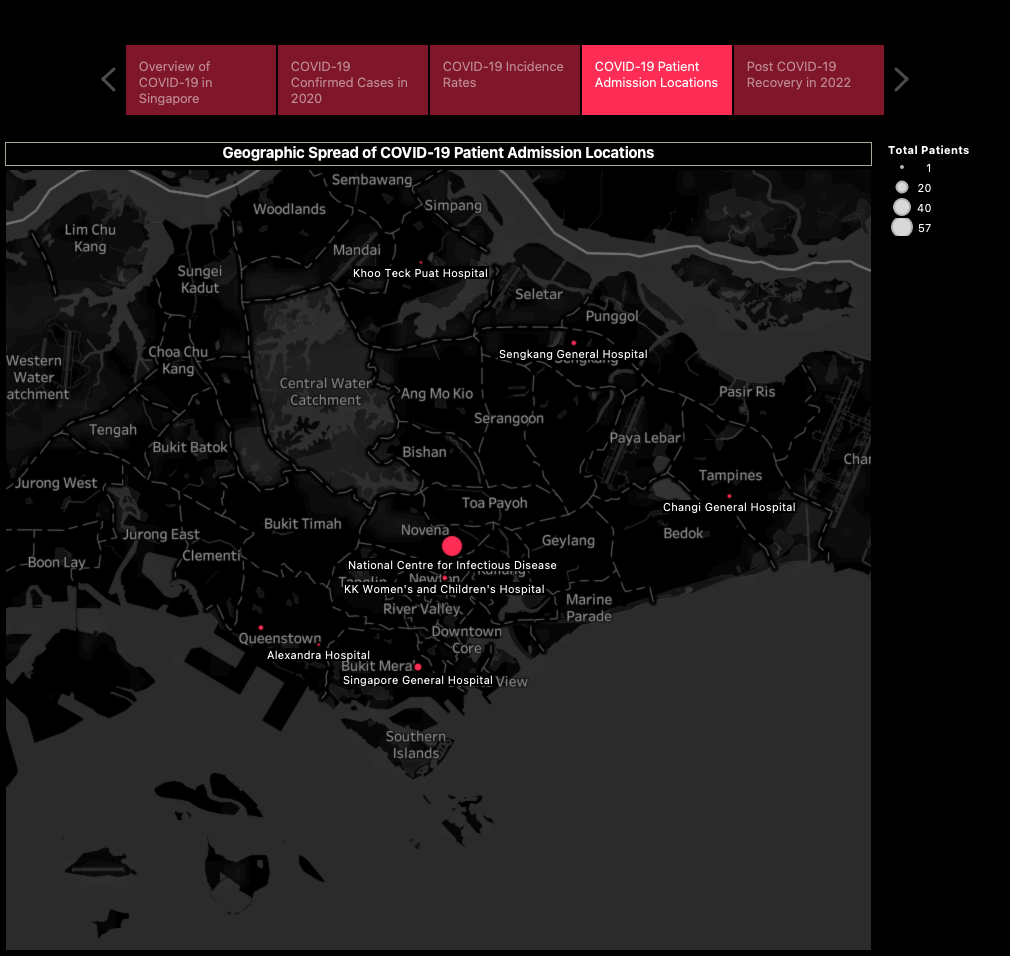

The page's visual inventory and layout, read from the dashboard file:
{"tool":"tableau","page":{"name":"Dashboard 4","canvas":[1000,800],"ordinal":3},"visuals":[{"type":"filter","title":"COVID-19 Patient Admission Locations","param":"[federated.1rmja4o1pvau8i0zs4k0r162akoj].[none:Calculation_68398422190366722:nk]","box":[832,8,160,82]}]}

Visuals, with their boxes on the page's 1000x800 design canvas (x1, y1, x2, y2). These are canvas units, not pixel positions in the 1010x956 screenshot, which may show the page scaled, cropped or inside an application window:
"COVID-19 Patient Admission Locations" filter: x1=832 y1=8 x2=992 y2=90
